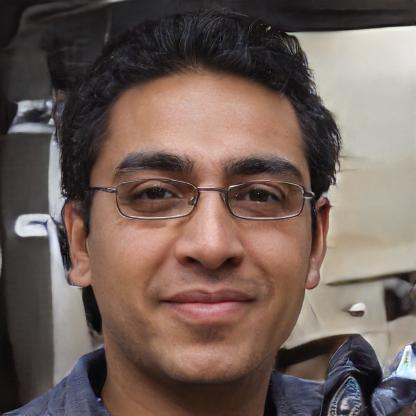glasses: (100, 172, 312, 226)
